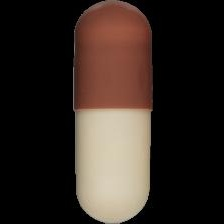67296-0023: (0, 0, 224, 224)
